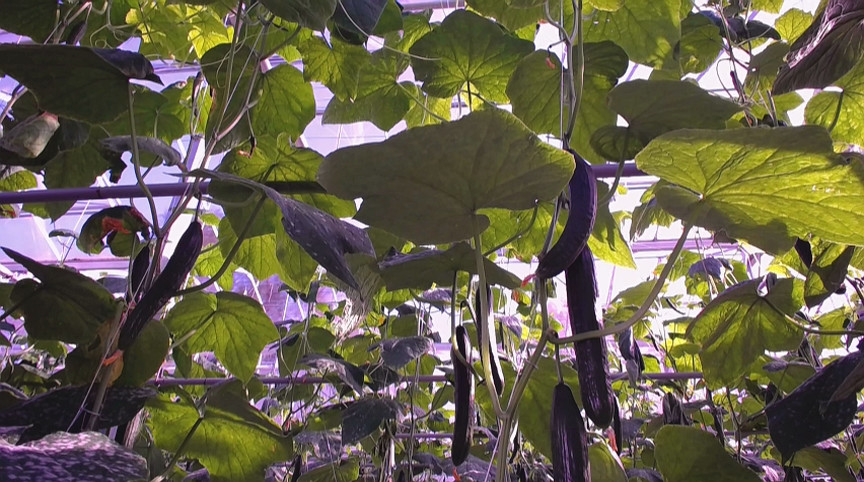cucumber: (118, 221, 205, 351), (563, 243, 616, 429), (534, 145, 599, 281), (547, 384, 593, 481), (475, 279, 505, 399), (451, 325, 476, 465)
